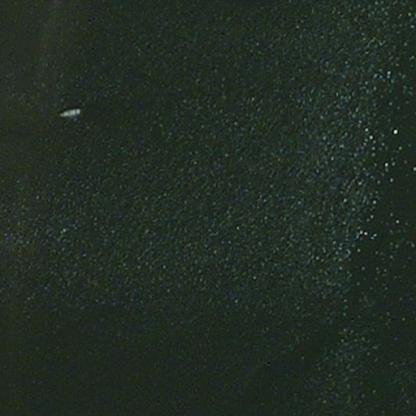ship: (53, 105, 81, 120)
